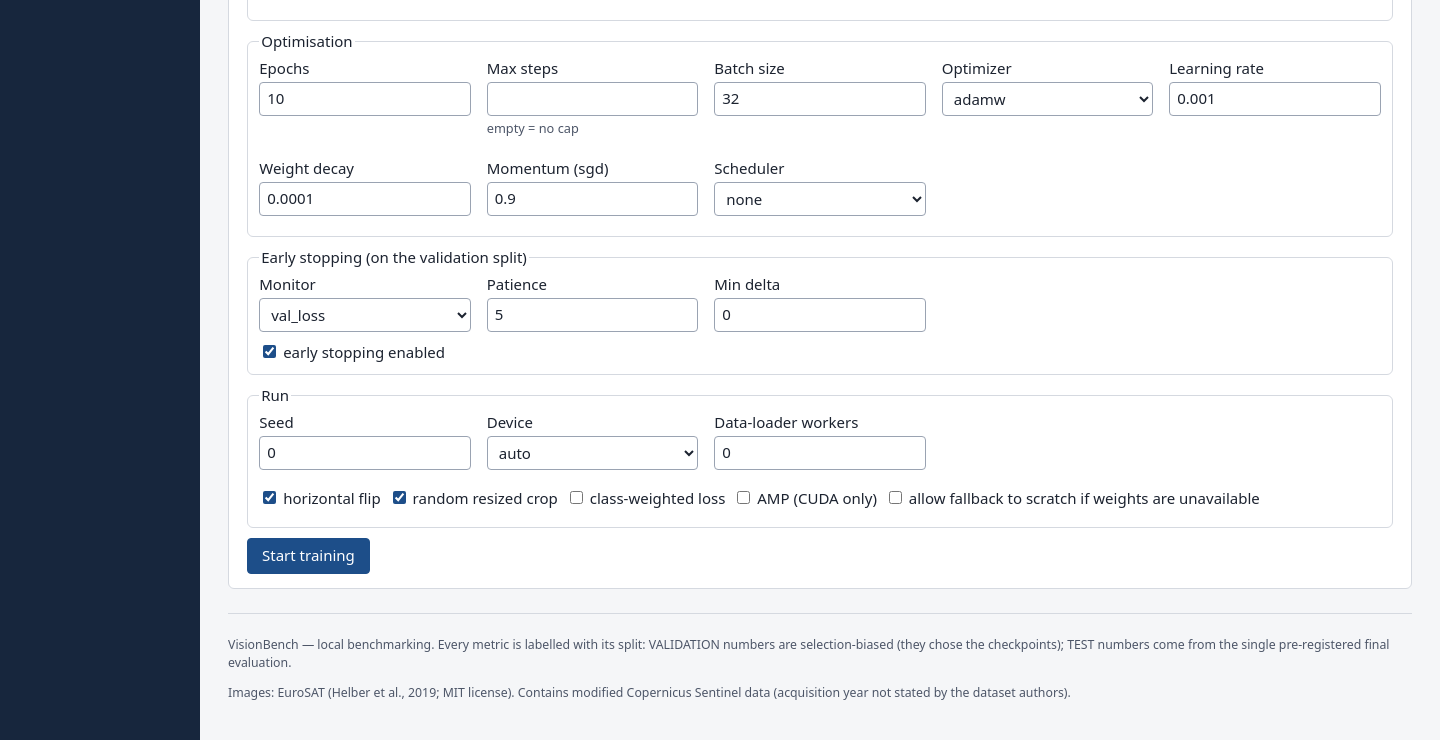
Test: Training › validates with the schema limits and never starts on its own
The image size is (1440, 740).
(page scrolled)
Step 1. Click the button "Start training" → (308, 556), box top-left (247, 538), bottom-right (370, 574)
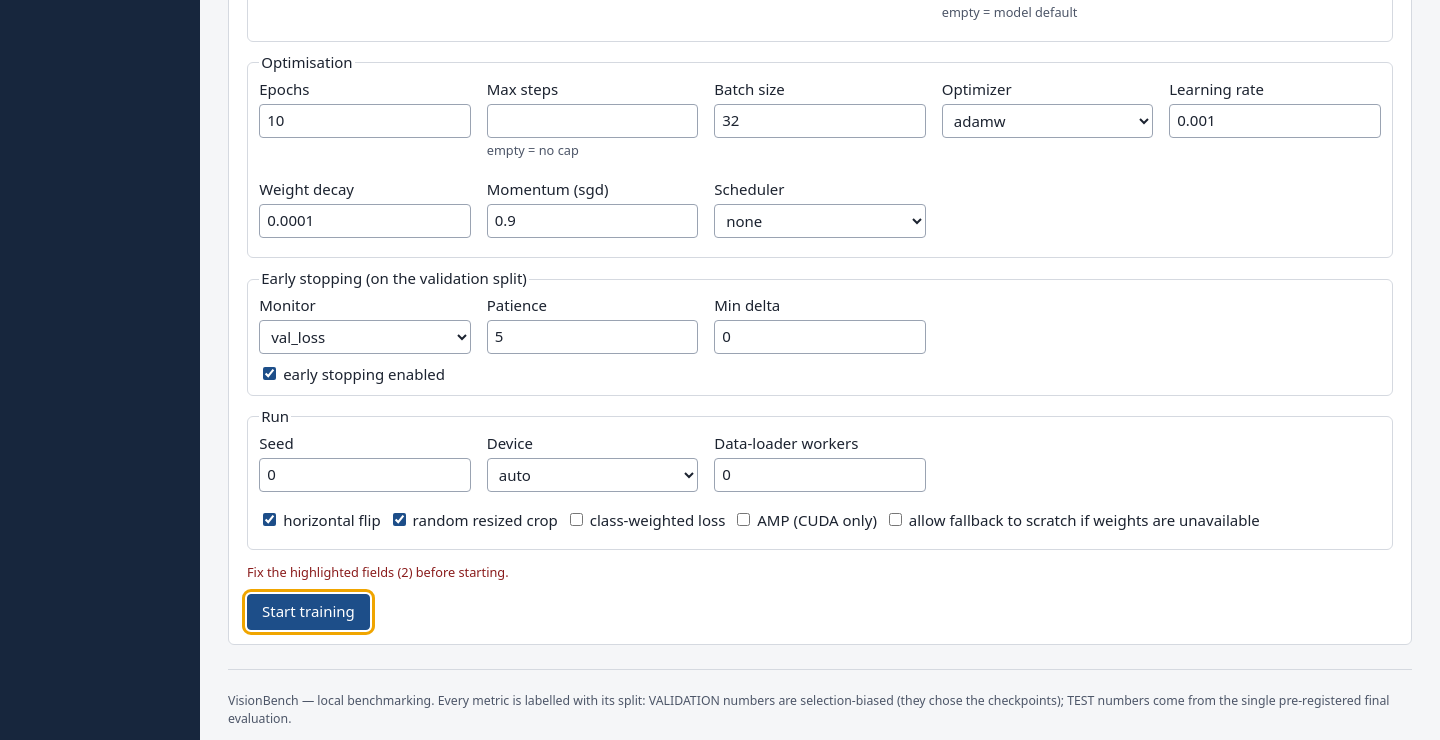
Expected: the message shows "Fix the highlighted fields", top-left (247, 563), bottom-right (401, 581)
